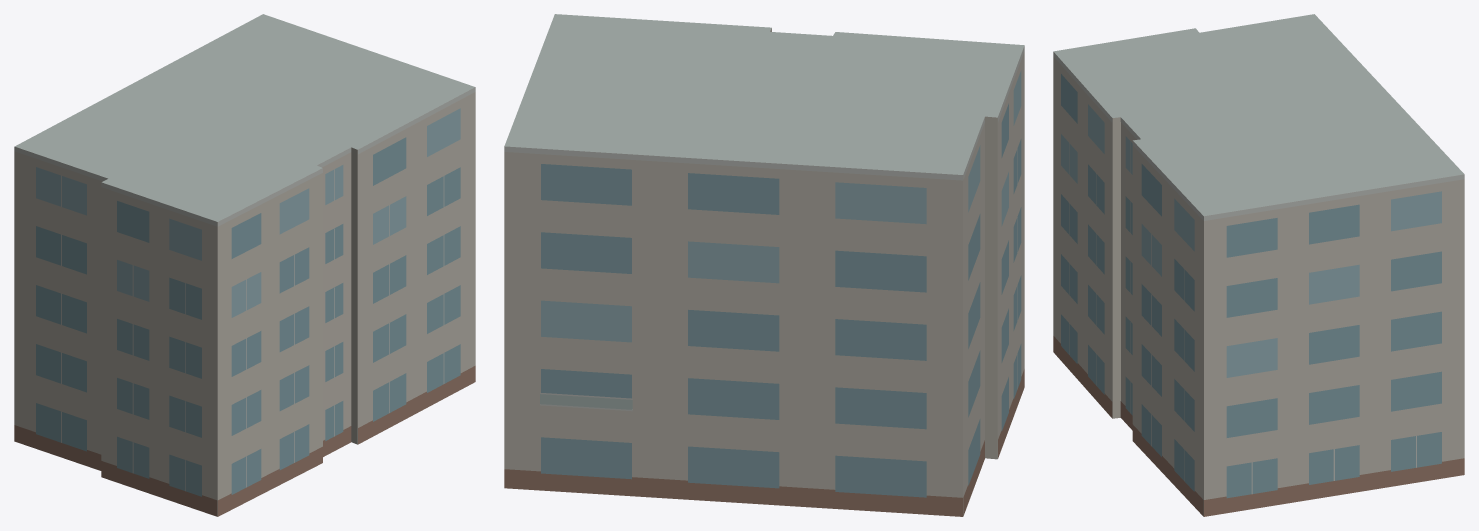
The model's file is survey-upis-32717580.glb.
3 renders of one model, left to right at view 1: azimuth 30°, elevation 25°; view 2: azimuth 150°, elevation 25°; view 3: azimuth 270°, elevation 25°, orthographic. The views are drawn at different scales.
Parts seen in each view (by area): view 1: survey-upis-32717580.tmp; view 2: survey-upis-32717580.tmp; view 3: survey-upis-32717580.tmp.
Part boxes in pixels (box(x1,y1,x2,y2)): survey-upis-32717580.tmp: box(14, 14, 475, 516); survey-upis-32717580.tmp: box(504, 14, 1024, 516); survey-upis-32717580.tmp: box(1053, 14, 1464, 516).
Bounding box in the file's own units: 21.95 × 15.2 × 18.86.
